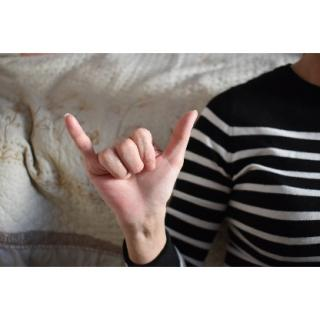YA: (62, 109, 202, 238)
